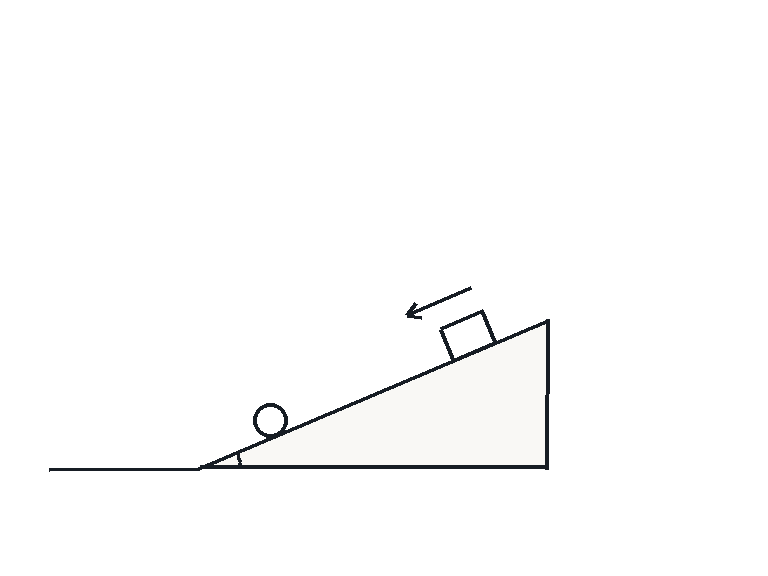ball: (251, 401, 289, 439)
block: (438, 309, 498, 362)
ramp: (198, 319, 548, 470)
